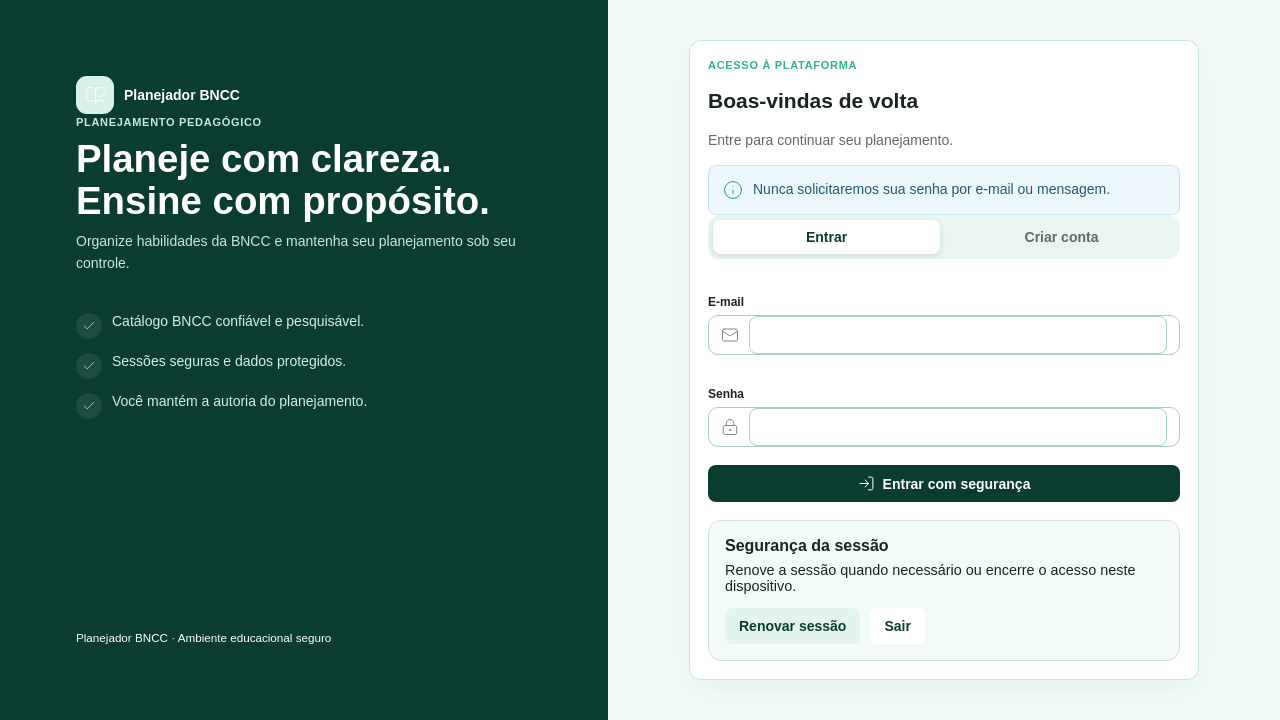
Scenario: tela de autenticação › envia login e apresenta mensagem genérica quando falha
The width and height of the screenshot is (1280, 720).
Type "professor@escola.edu.br" into the field labelled "E-mail" at x=958, y=335, box [749,316,1167,354]
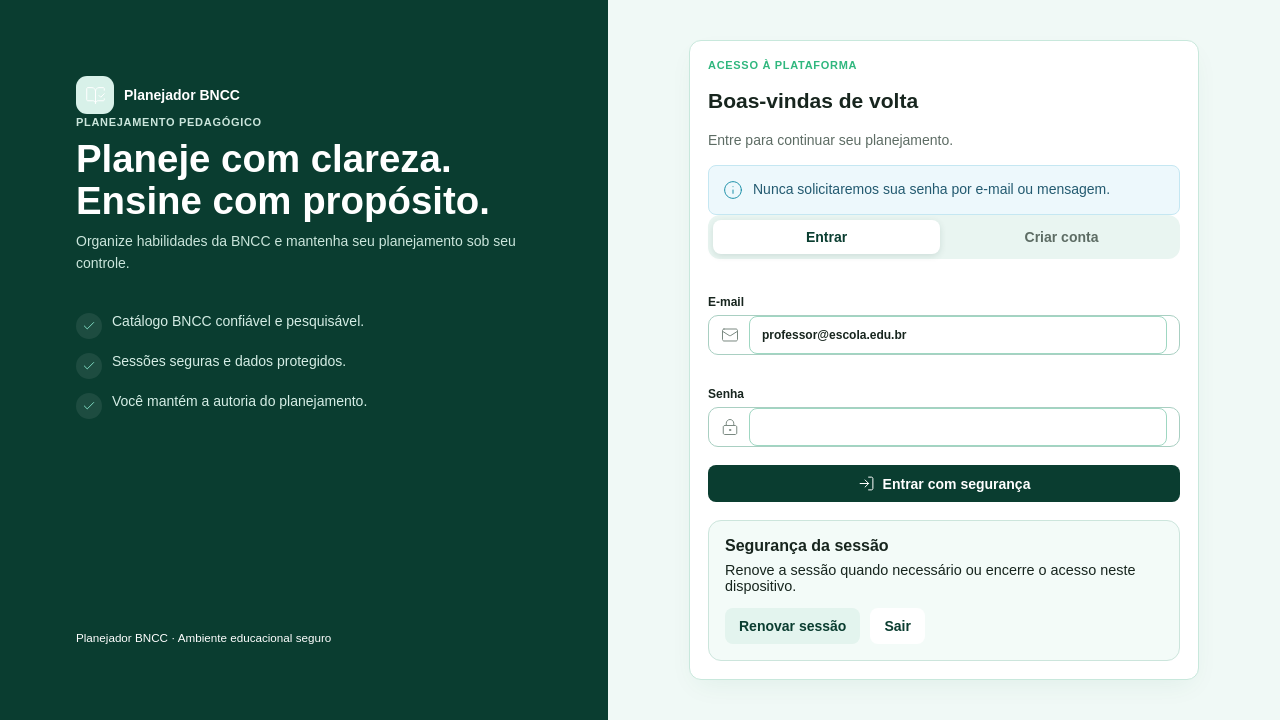
Type "senha-segura" into the password field labelled "Senha" at x=958, y=427, box [749,408,1167,446]
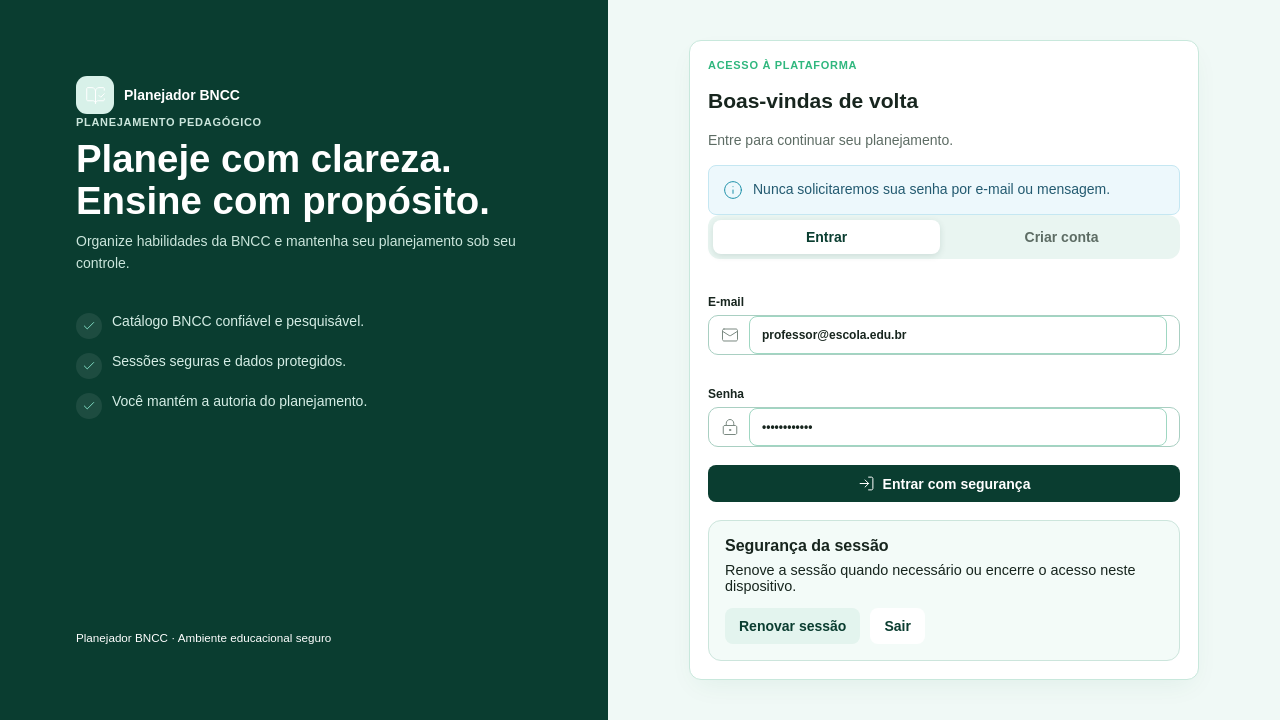
Click the button "Entrar com segurança" at x=944, y=483, box [708,465,1180,502]
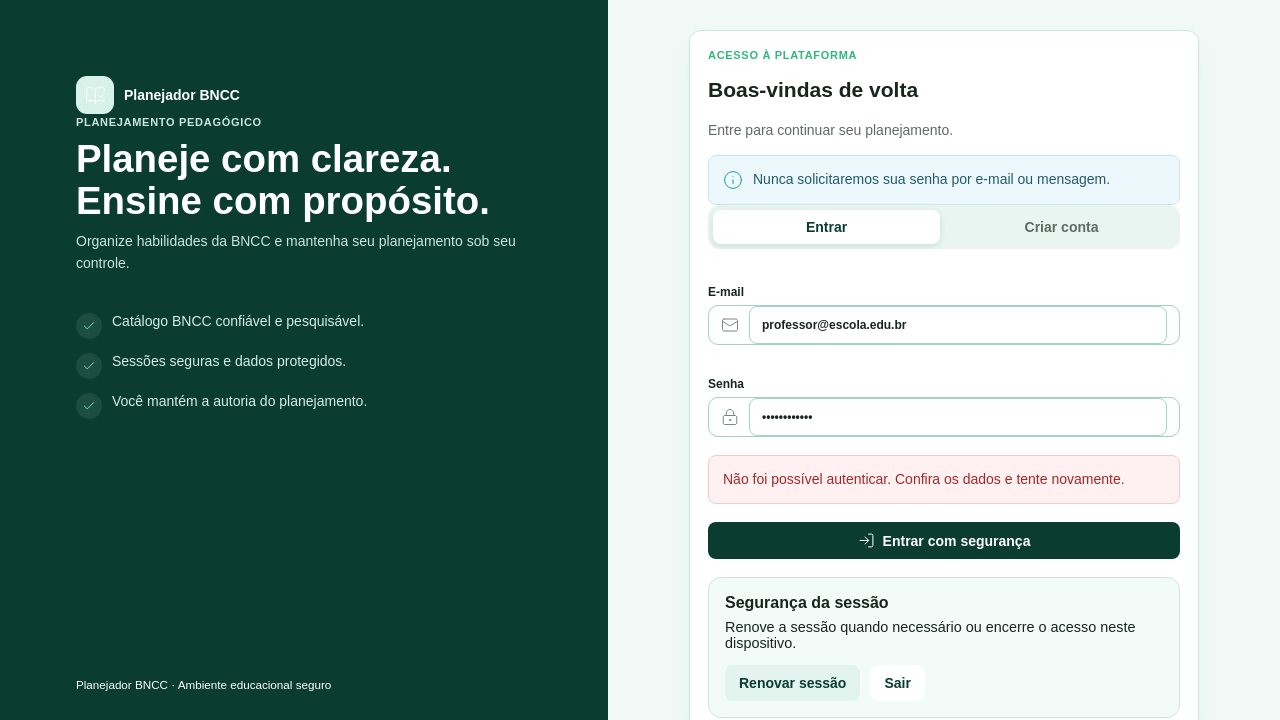
Check: the message "Não foi possível autenticar. Confira os dados e tente novamente." is shown, box [708,455,1180,504]
